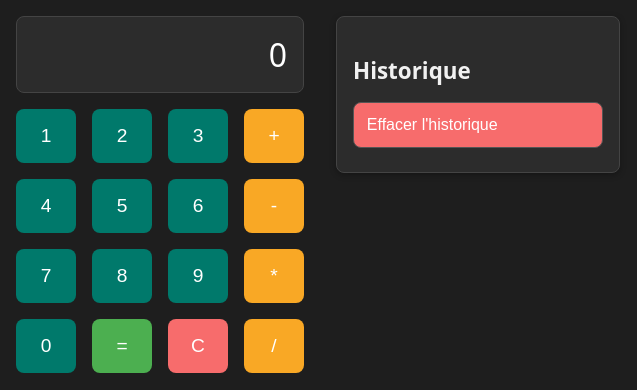
Scenario: Calculatrice › fait une addition simple
Click the button "1" at (46, 136), box [16, 109, 76, 163]
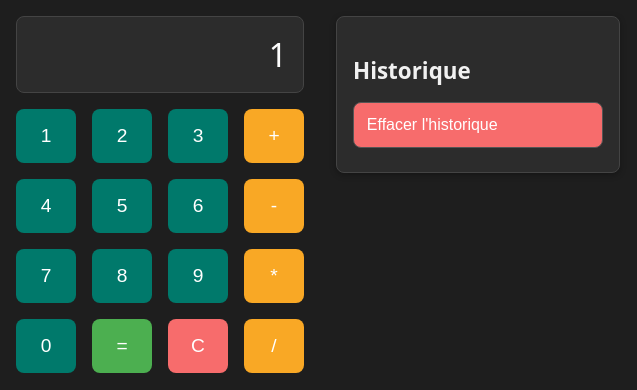
Click the button "+" at (274, 136), box [244, 109, 304, 163]
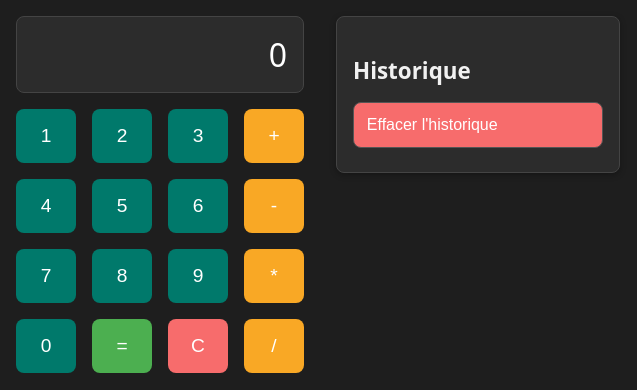
Click the button "2" at (122, 136), box [92, 109, 152, 163]
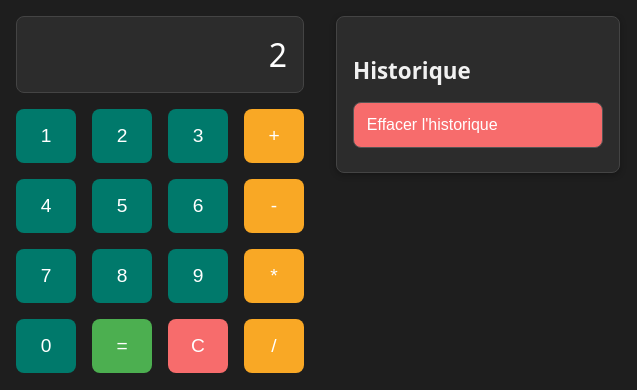
Click the button "=" at (122, 346), box [92, 319, 152, 373]
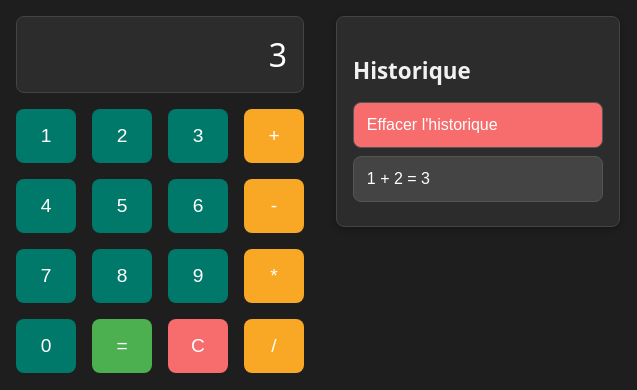
Expected: the text "3" is shown, [16, 16, 304, 93]
